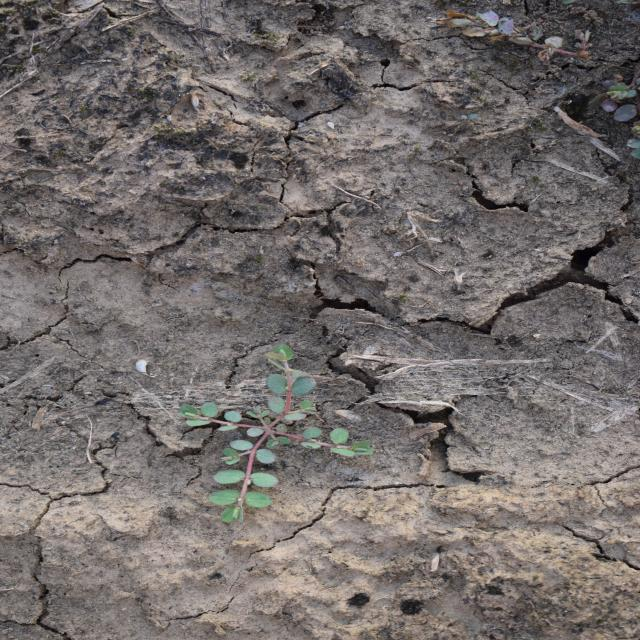SpottedSpurge: (175, 341, 378, 525)
